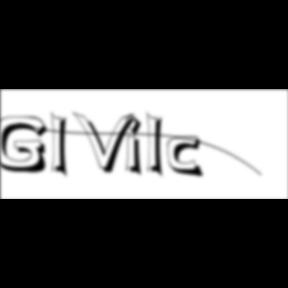G: (0, 116, 54, 176)
I: (51, 110, 75, 182), (146, 110, 170, 182)
V: (74, 110, 140, 176)
c: (168, 136, 208, 180)
i: (125, 112, 149, 180)
